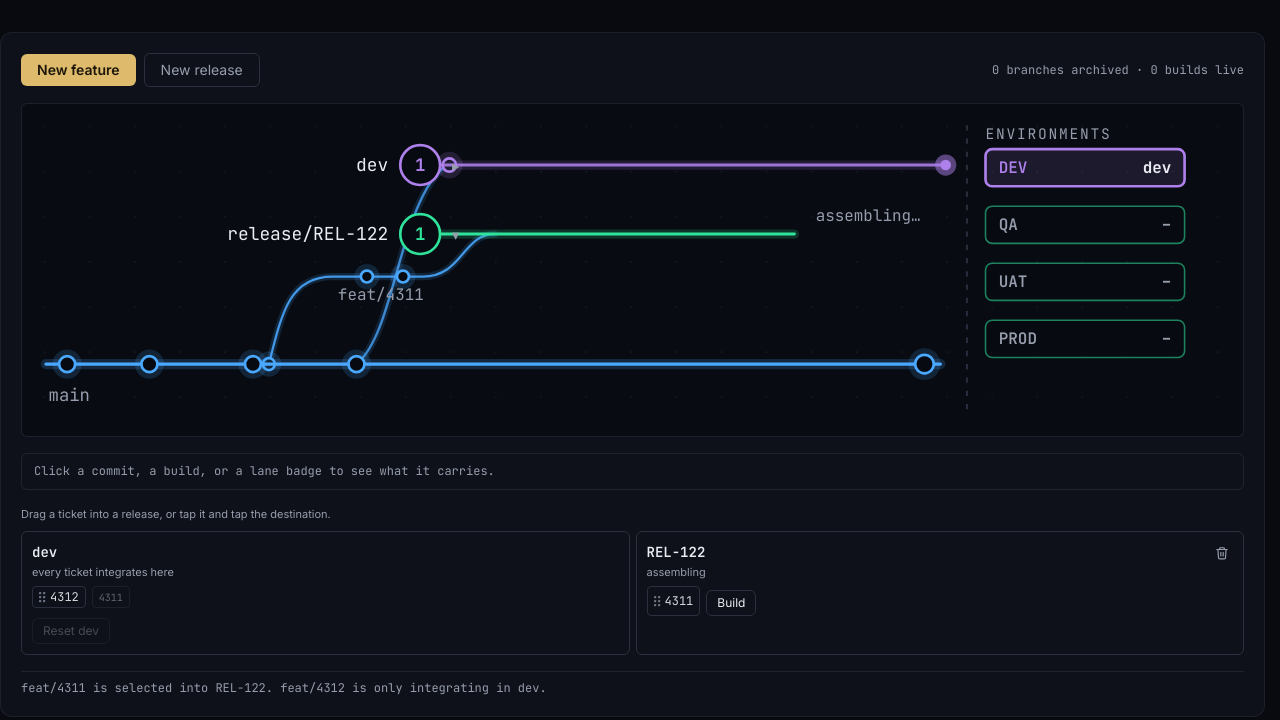
Scenario: ReleaseTrain › carries a ticket into a release by tap, without drag
This screenshot has width=1280, height=720.
Click the button "4312": (59, 597) 32,586 -> 86,608
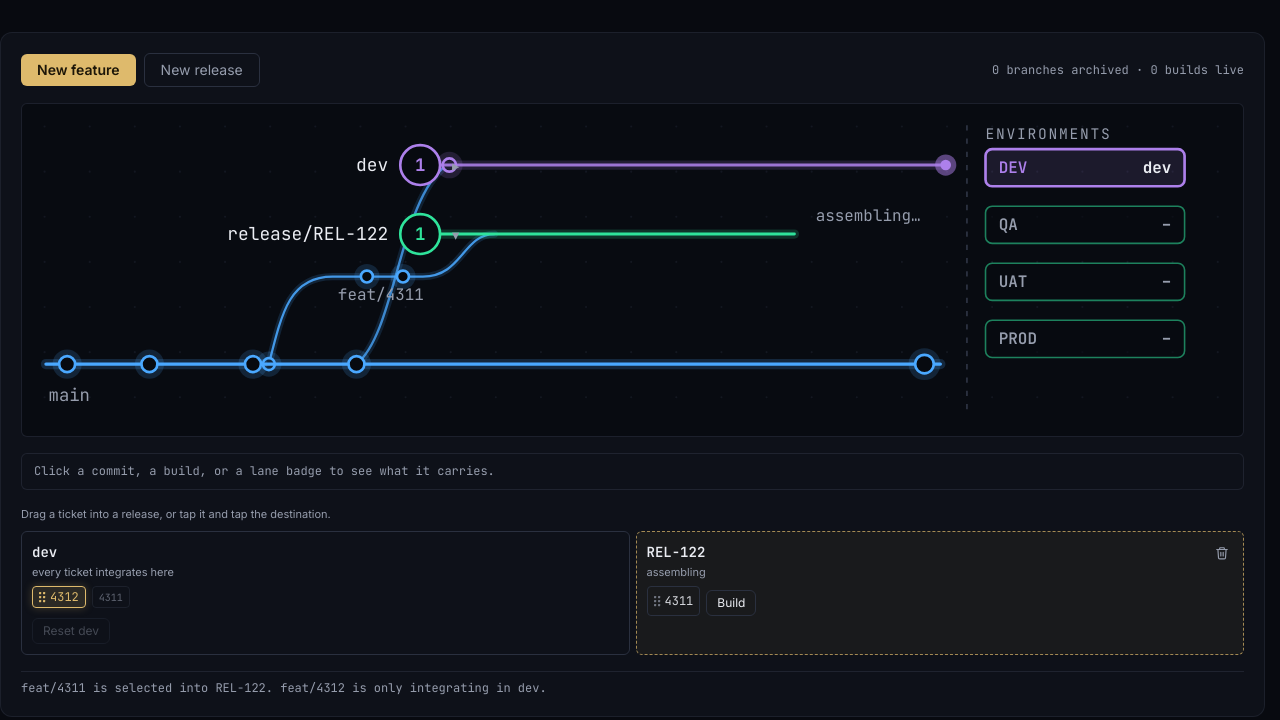
Expected: the button "4312" is pressed, 32,586 -> 86,608
Click the button "REL-122 assembling": (676, 552) 646,542 -> 1203,580
(page scrolled)
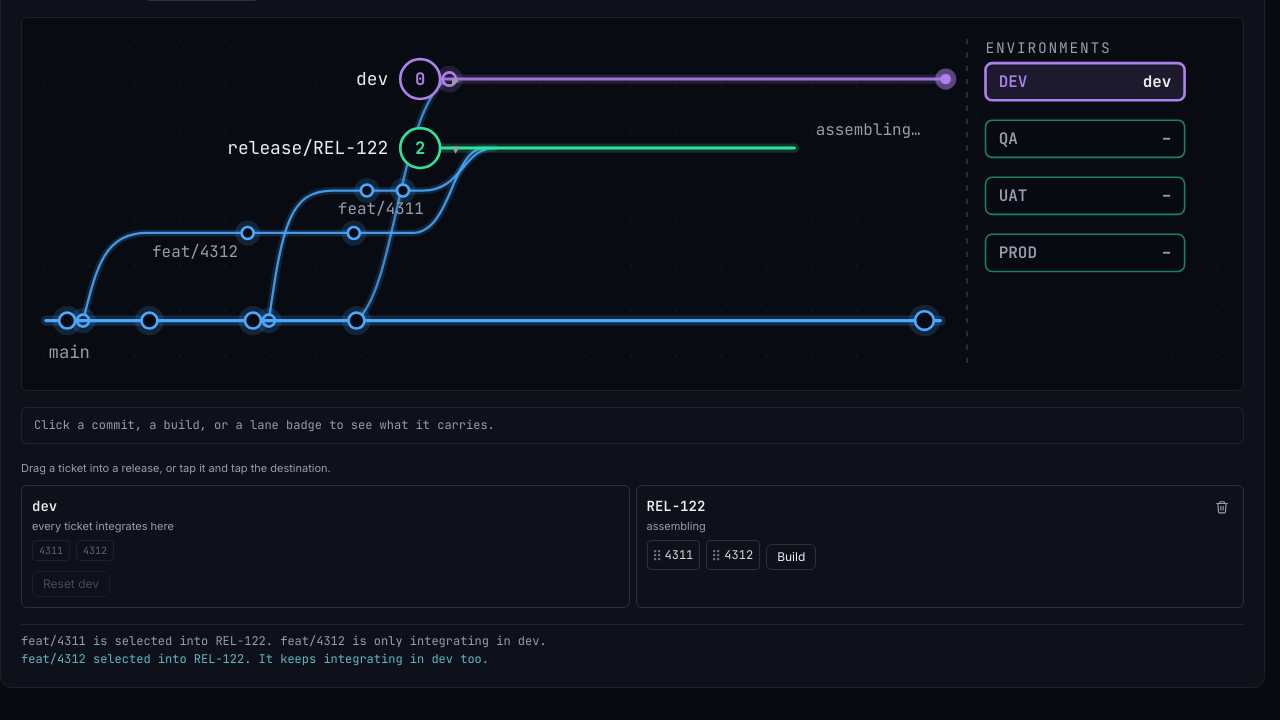
Expected: the button "4312" is shown, 706,540 -> 760,570
Expected: the list item "feat/4312 selected into REL-122. It keeps integrating in dev too." is shown, 21,651 -> 489,667
